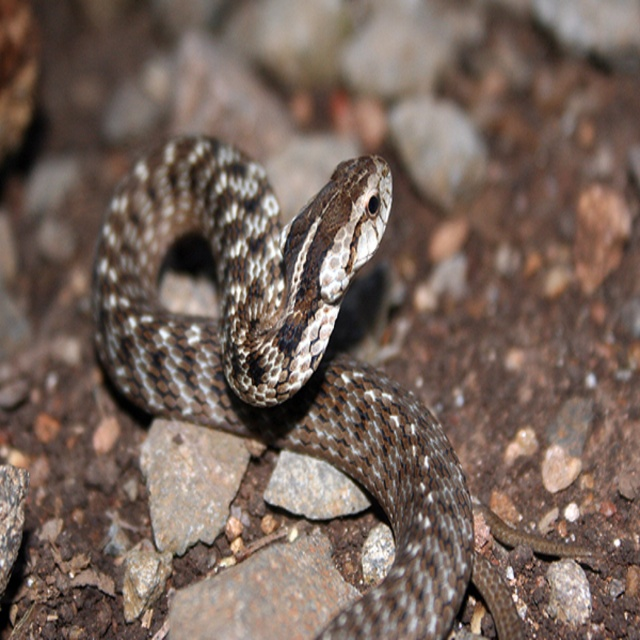Snake: (89, 133, 603, 640)
